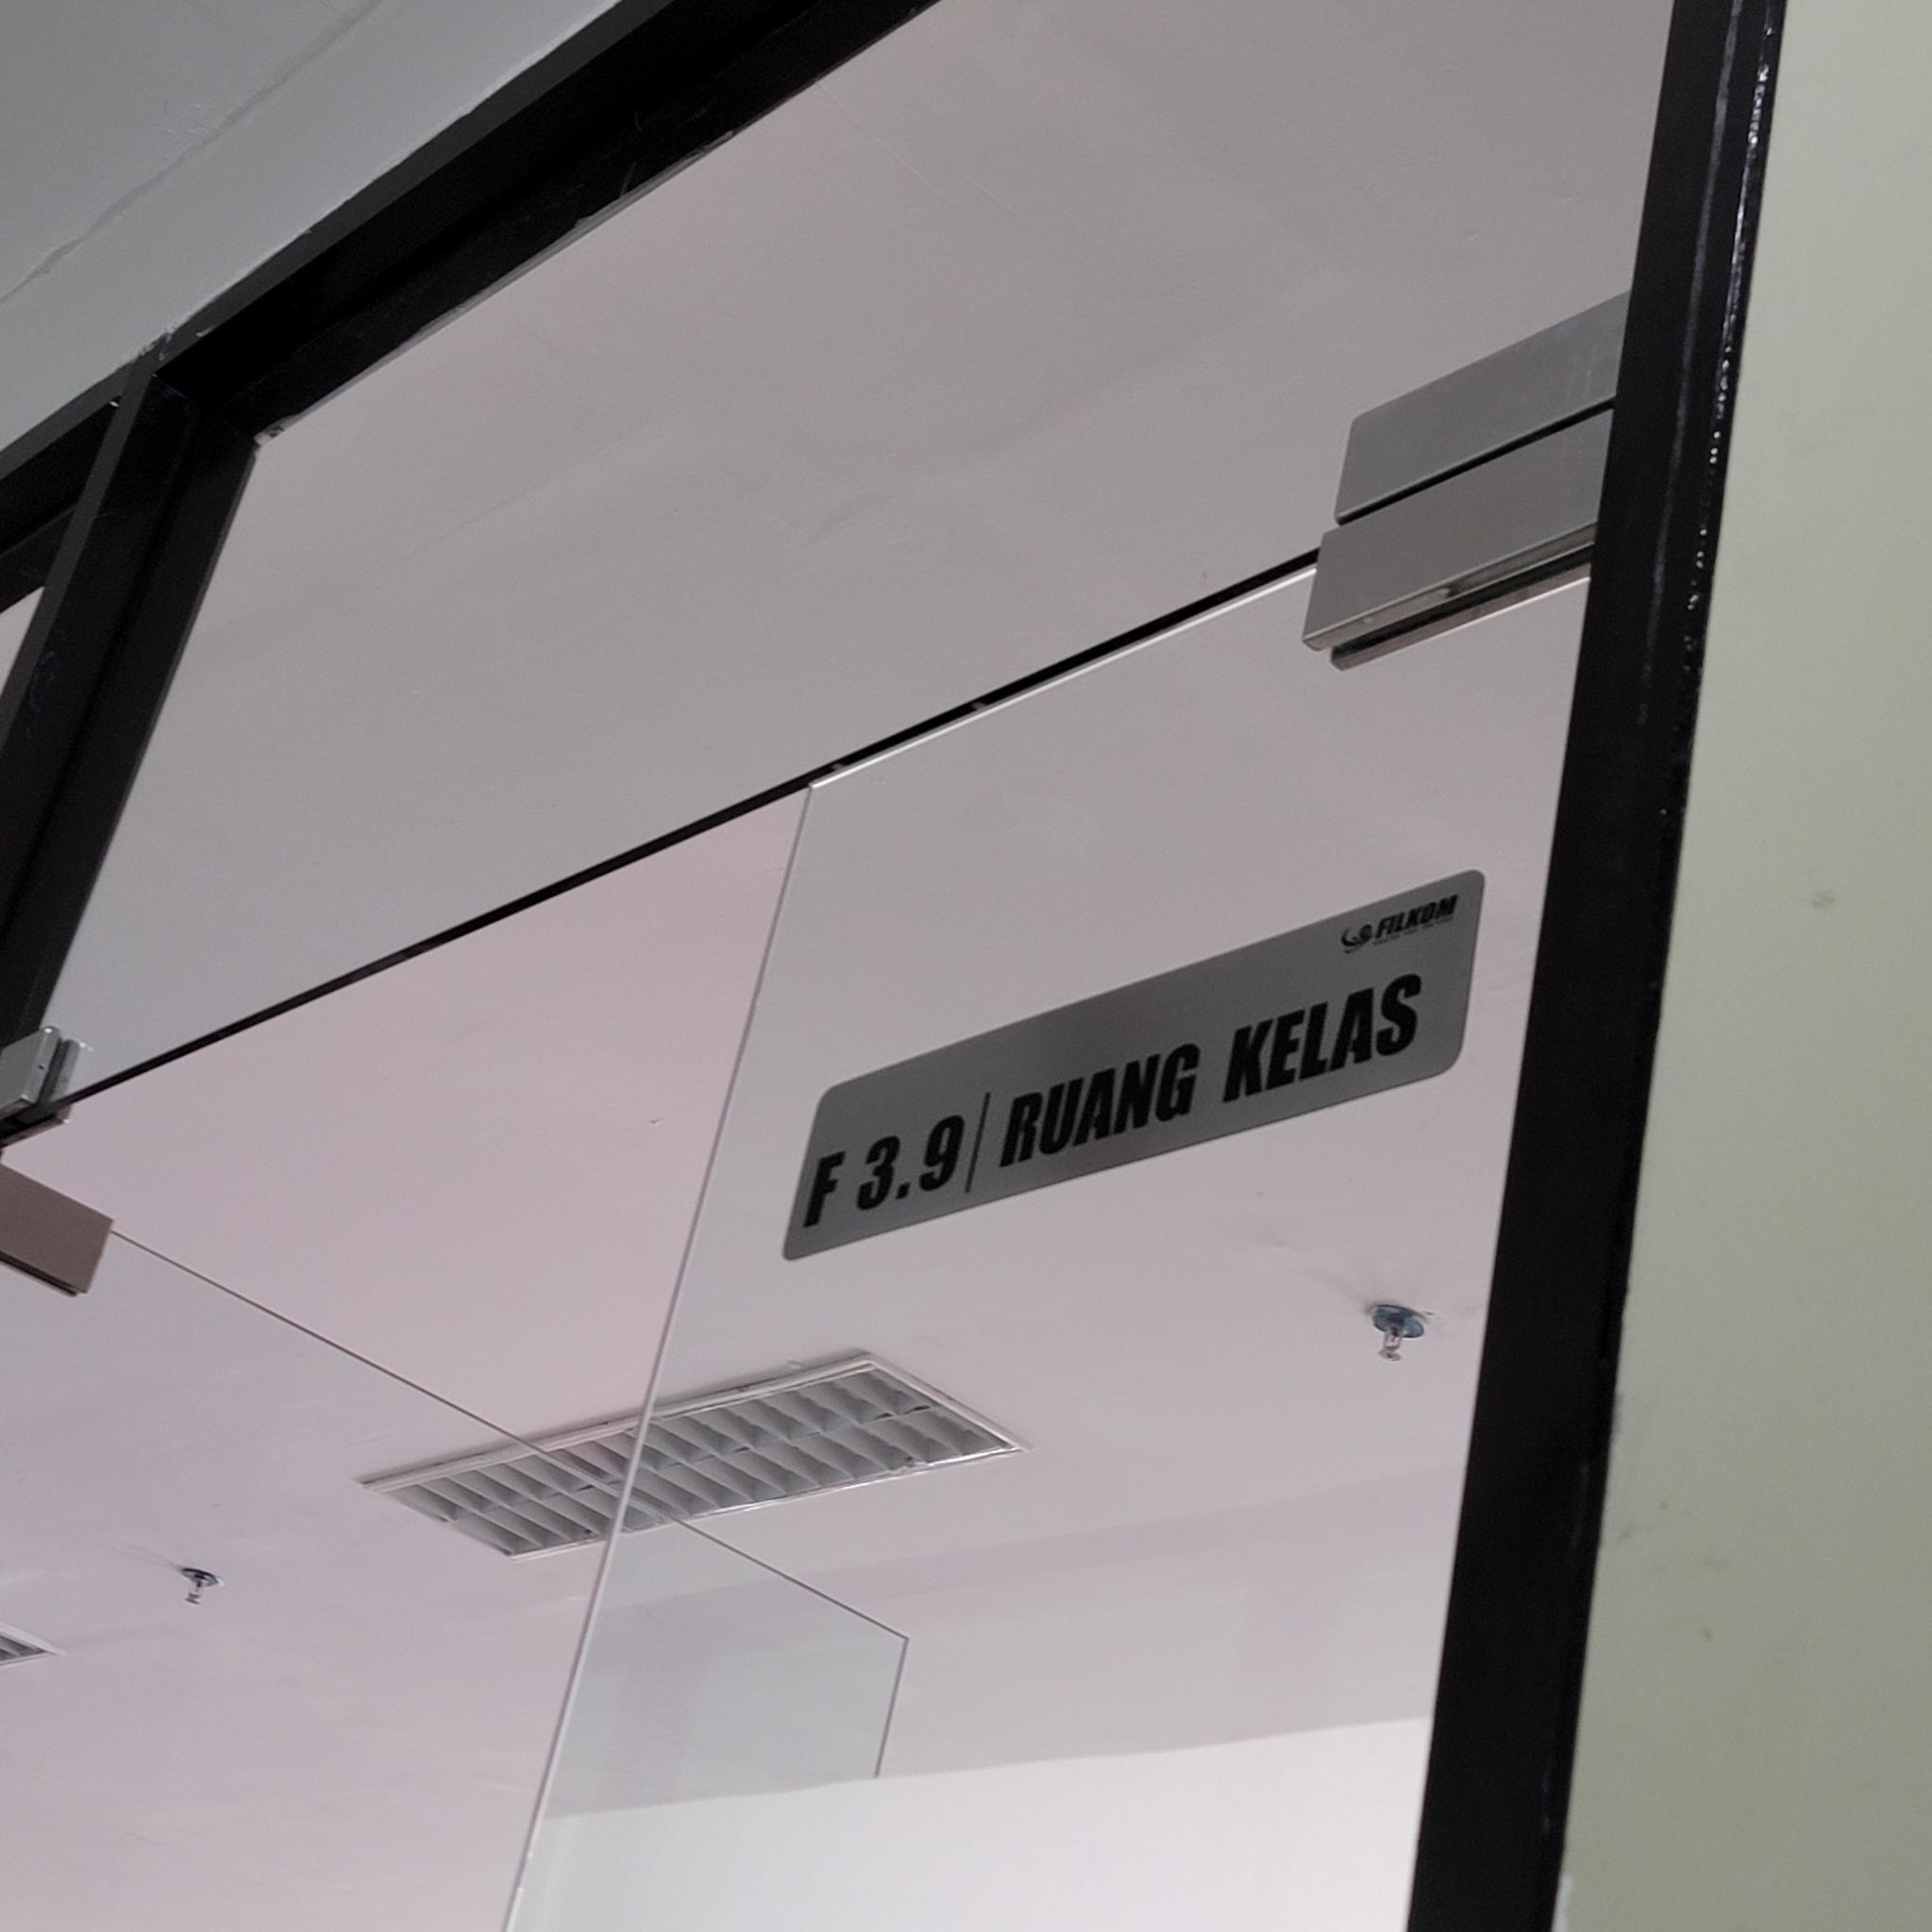plate: (786, 876, 1484, 1261)
